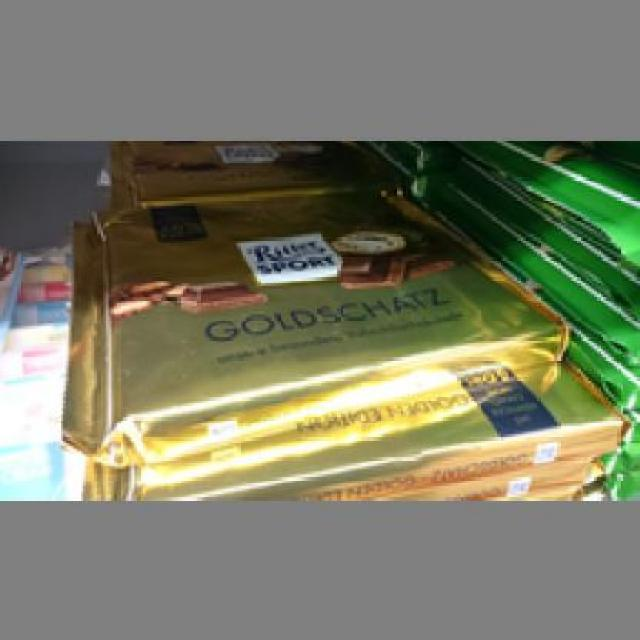Chocolate: (70, 186, 566, 423)
